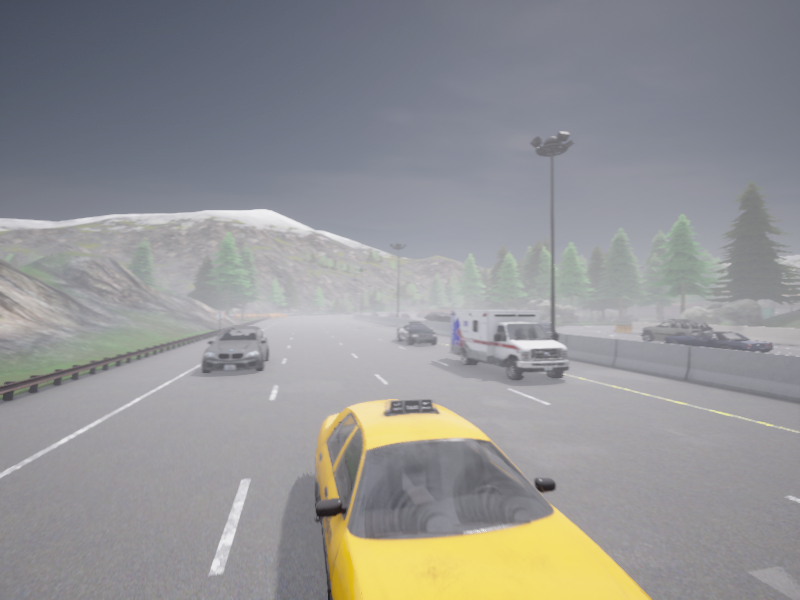vehicle: (314, 399, 651, 599), (449, 310, 568, 380), (201, 326, 269, 373), (664, 331, 772, 352), (640, 318, 713, 341), (396, 322, 436, 345), (424, 312, 450, 322), (540, 319, 550, 331), (400, 313, 409, 318), (385, 313, 394, 317), (371, 312, 377, 315), (393, 313, 396, 316)
